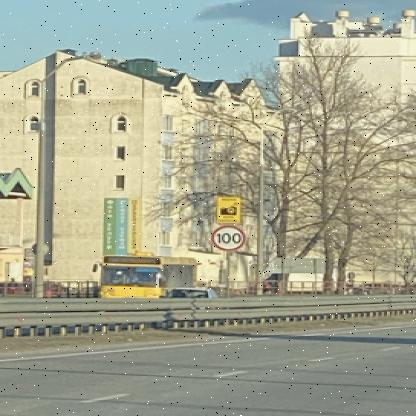speedlimit: (210, 225, 244, 249)
